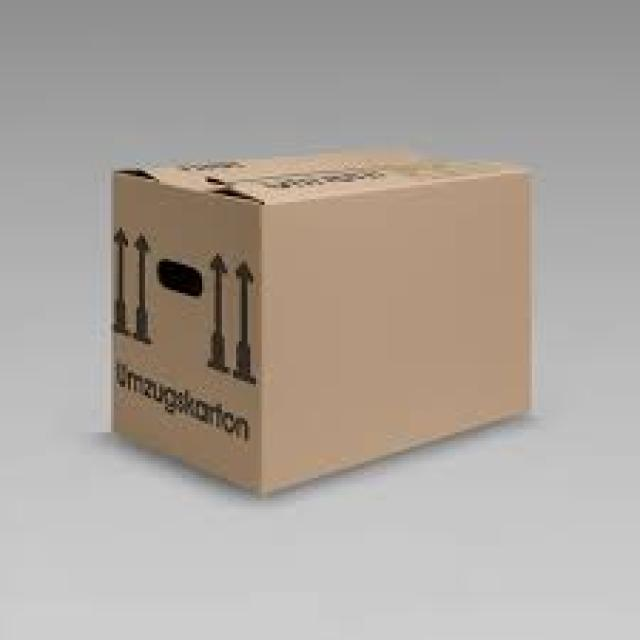cardboard: (111, 151, 532, 495)
